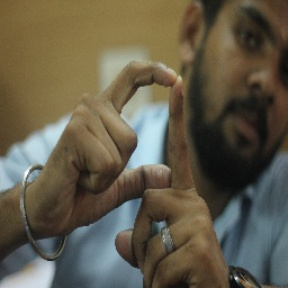D: (80, 54, 213, 228)
